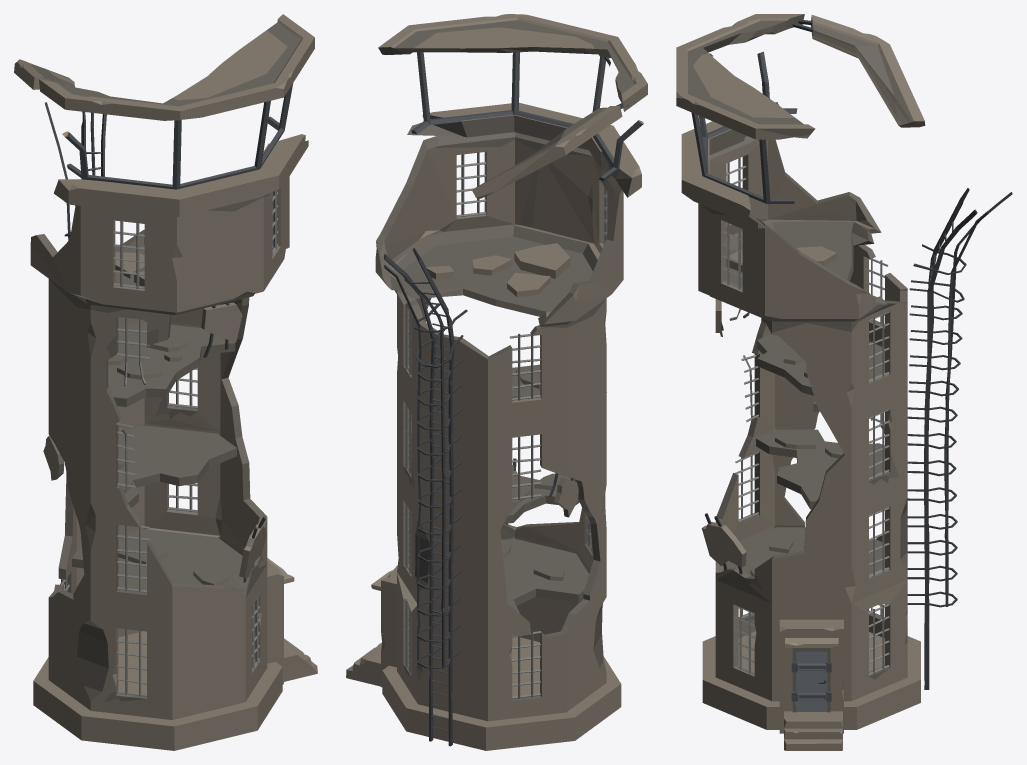
File: SM_Bld_ControlTower_Destroyed_01.fbx
The picture shows the model from 3 angles, left to right: view 1: azimuth 30°, elevation 25°; view 2: azimuth 150°, elevation 25°; view 3: azimuth 270°, elevation 25°; orthographic projection. The views are drawn at different scales.
Visible parts, largest first — view 1: SM_Bld_ControlTower_Destroyed_01; view 2: SM_Bld_ControlTower_Destroyed_01; view 3: SM_Bld_ControlTower_Destroyed_01.
Part boxes in pixels (bbox=[...]): SM_Bld_ControlTower_Destroyed_01: bbox=[14, 14, 317, 750]; SM_Bld_ControlTower_Destroyed_01: bbox=[346, 14, 647, 750]; SM_Bld_ControlTower_Destroyed_01: bbox=[676, 14, 1012, 750].
Bounding box in the file's own units: 981 × 2249 × 1118.
